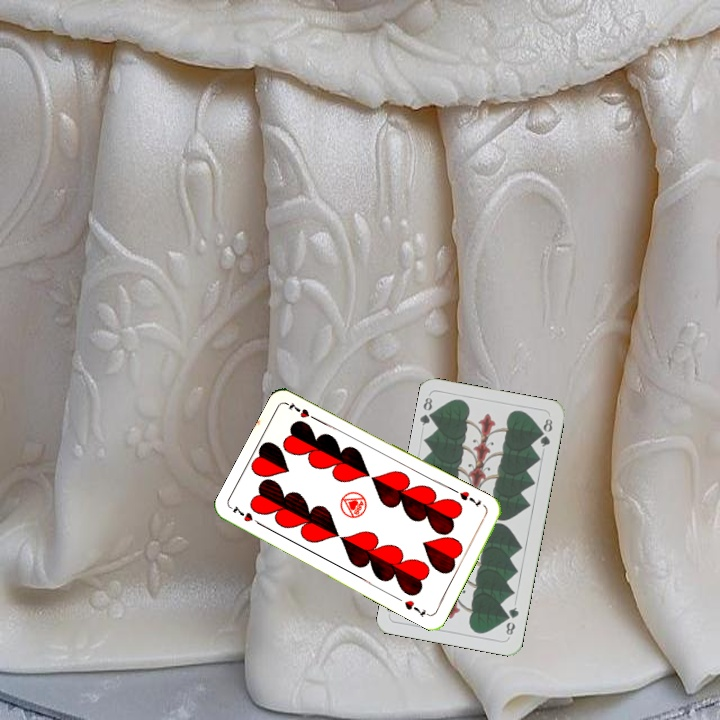G8: (416, 393, 439, 428), (502, 603, 522, 638)
H7: (227, 501, 265, 529), (455, 487, 484, 510)
